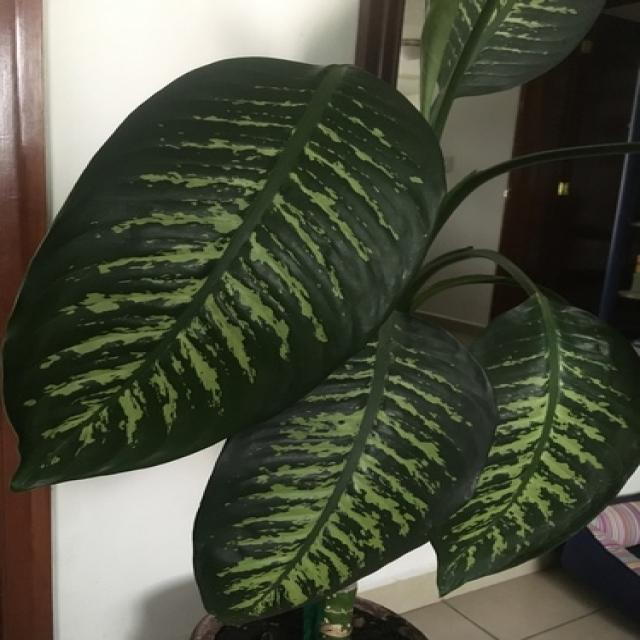dieffenbachia-oVHx: (0, 0, 640, 640)
